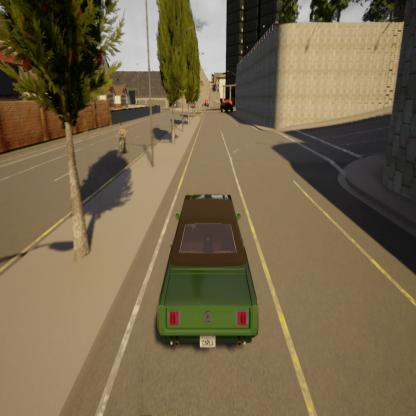Cars: (157, 195, 259, 353), (118, 122, 128, 158), (219, 98, 233, 112)
